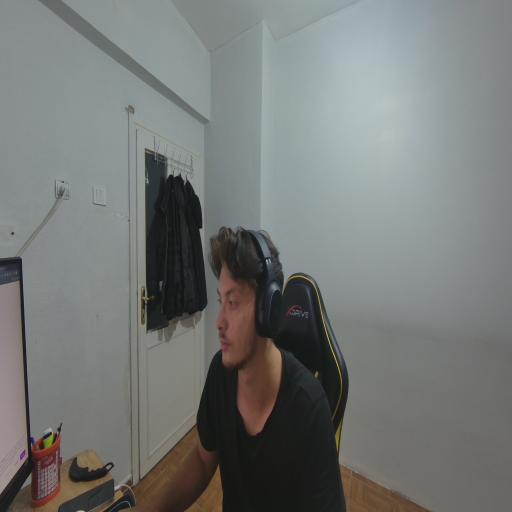cuma-face-v2: (212, 220, 295, 368)
